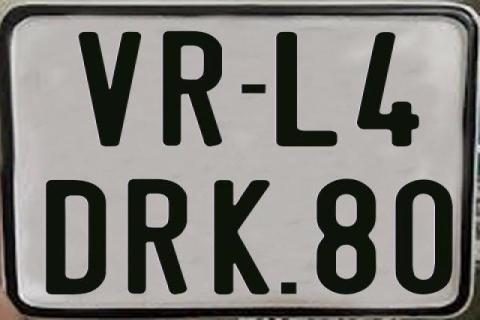0: (357, 31, 425, 146), (315, 177, 379, 297), (394, 178, 454, 298)
D: (44, 180, 106, 298)
K: (212, 180, 274, 298)
L: (273, 32, 339, 150)
R: (125, 177, 189, 296), (161, 29, 225, 147)
V: (77, 31, 140, 145)
